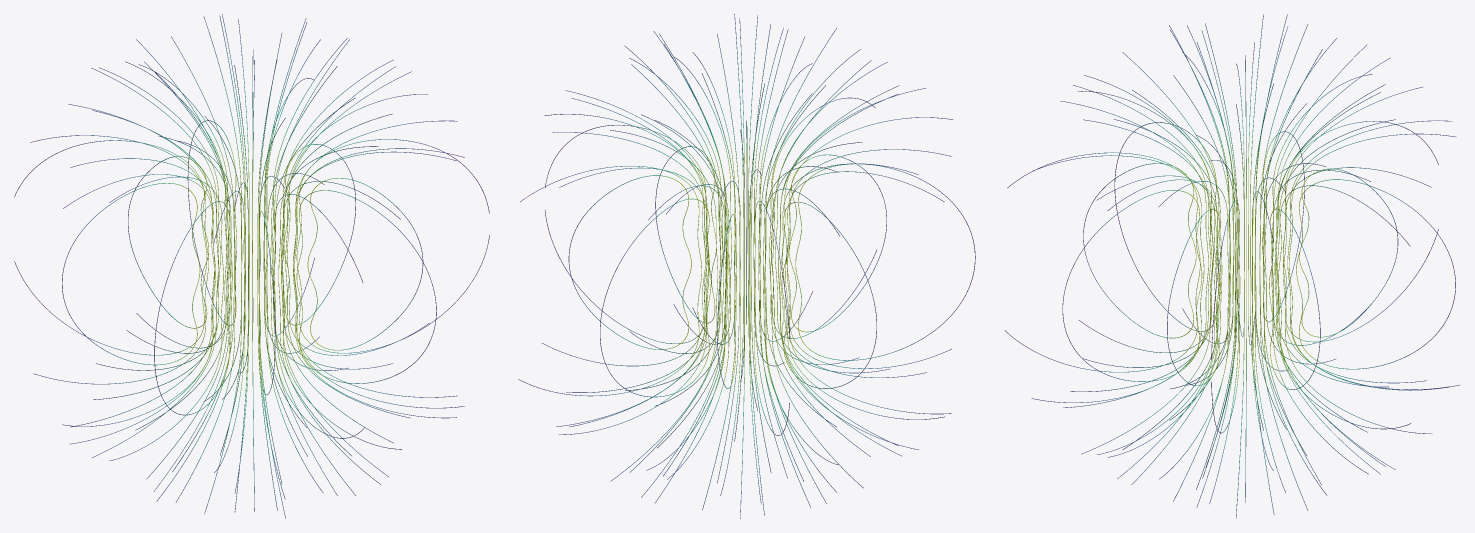
Rendered from coil_5_field_lines.gltf.
The picture shows the model from 3 angles, left to right: view 1: azimuth 30°, elevation 25°; view 2: azimuth 150°, elevation 25°; view 3: azimuth 270°, elevation 25°; orthographic projection.
Parts seen in each view (by area): view 1: Renderer Node; view 2: Renderer Node; view 3: Renderer Node.
Part boxes in pixels (bbox=[...]): Renderer Node: bbox=[14, 14, 489, 518]; Renderer Node: bbox=[518, 14, 975, 518]; Renderer Node: bbox=[1004, 14, 1459, 518].
Bounding box in the file's own units: 1.97 × 2.06 × 1.89.
1 material, 1 textured.
